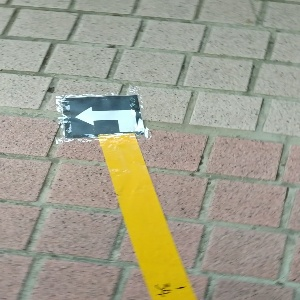left: (60, 93, 145, 137)
